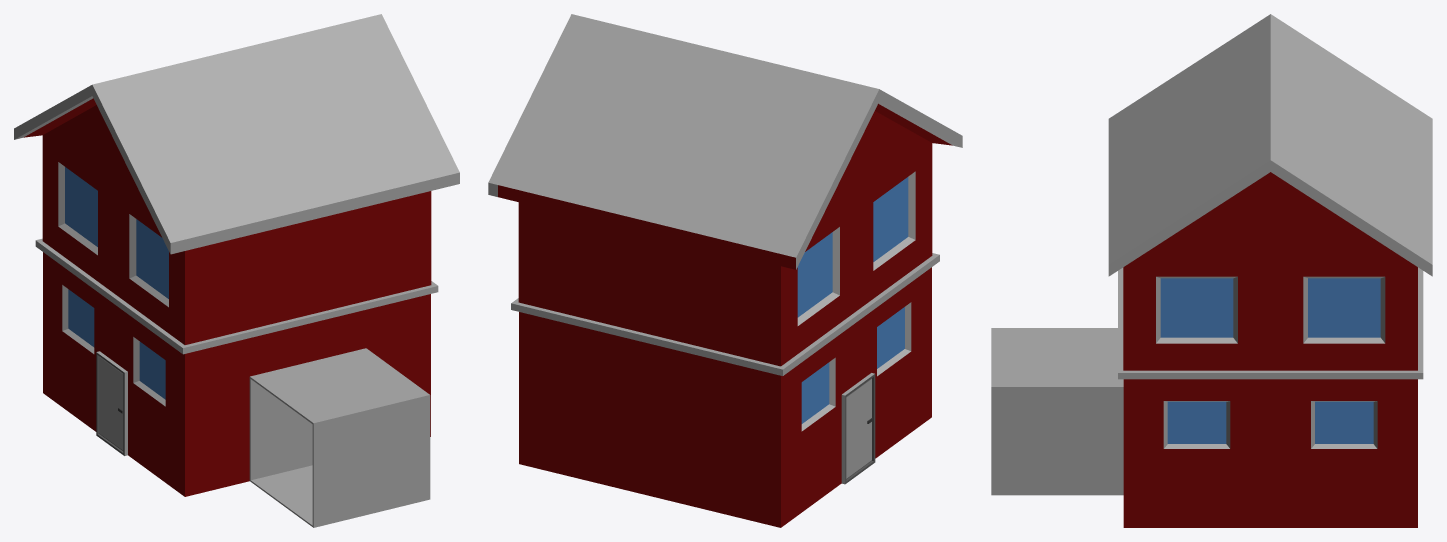
Rendered from House.001_Material.065.glb.
The picture shows the model from 3 angles, left to right: view 1: azimuth 30°, elevation 25°; view 2: azimuth 150°, elevation 25°; view 3: azimuth 270°, elevation 25°; orthographic projection. The views are drawn at different scales.
Parts seen in each view (by area): view 1: House.001_Material.065_0; view 2: House.001_Material.065_0; view 3: House.001_Material.065_0.
Boxes of the visible parts, x1,y1,x2,y2 form: House.001_Material.065_0: (14, 14, 459, 527); House.001_Material.065_0: (488, 14, 962, 527); House.001_Material.065_0: (991, 14, 1432, 527).
Bounding box in the file's own units: 1.99 × 2.4 × 2.54.
Materials: 1 (1 with a texture image).
